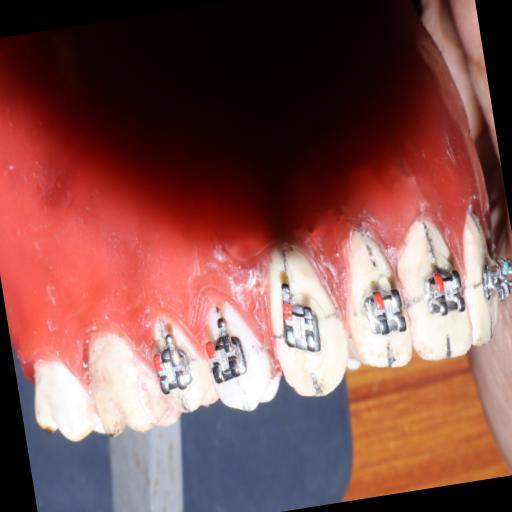incorrect_brace: (274, 286, 326, 360)
